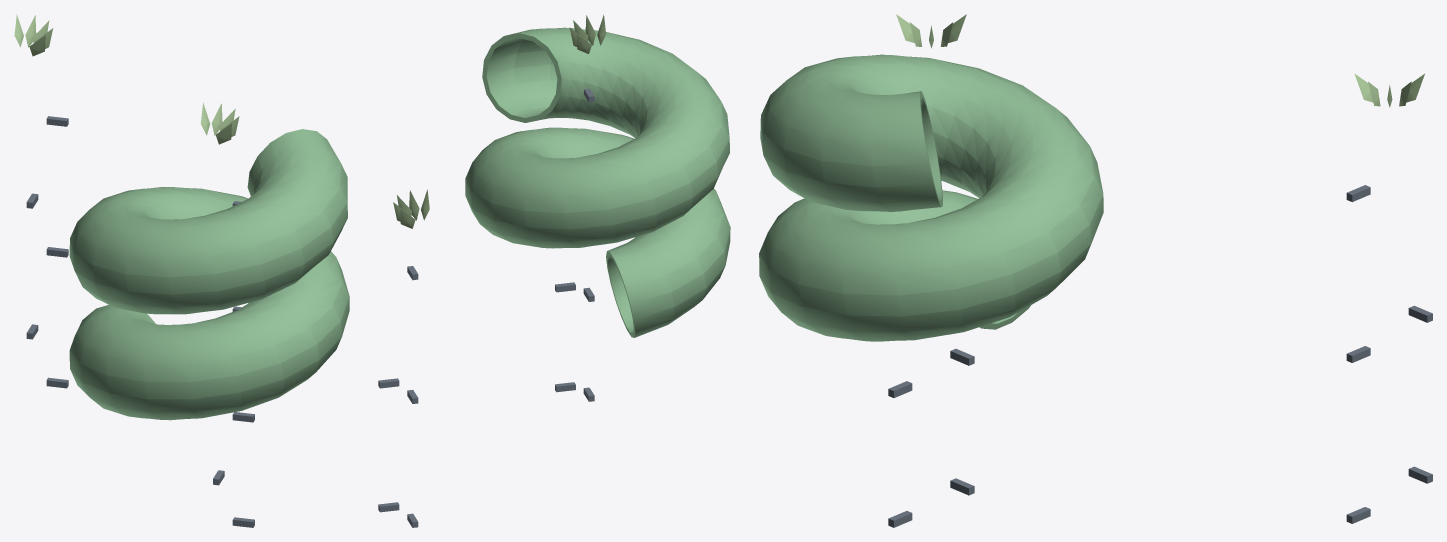
The model's file is tt_leisure_slide_tubes_d.glb.
The picture shows the model from 3 angles, left to right: view 1: azimuth 30°, elevation 25°; view 2: azimuth 150°, elevation 25°; view 3: azimuth 270°, elevation 25°; orthographic projection. The views are drawn at different scales.
Visible parts, largest first — view 1: Slide_Tube, Helix_LeafCrown, Tube_HardwareArms; view 2: Slide_Tube, Helix_LeafCrown, Tube_HardwareArms; view 3: Slide_Tube, Tube_HardwareArms, Helix_LeafCrown.
Boxes of the visible parts, bbox=[...] form: Slide_Tube: bbox=[69, 129, 349, 420]; Helix_LeafCrown: bbox=[14, 14, 239, 144]; Tube_HardwareArms: bbox=[26, 116, 254, 527]; Slide_Tube: bbox=[465, 27, 730, 337]; Helix_LeafCrown: bbox=[393, 14, 606, 228]; Tube_HardwareArms: bbox=[378, 88, 594, 527]; Slide_Tube: bbox=[759, 54, 1103, 341]; Tube_HardwareArms: bbox=[888, 185, 1432, 527]; Helix_LeafCrown: bbox=[896, 14, 1424, 107].
Size of what is drawn, in the model's own units: 2.63 by 4.22 by 5.14.
3 materials, 1 textured.
